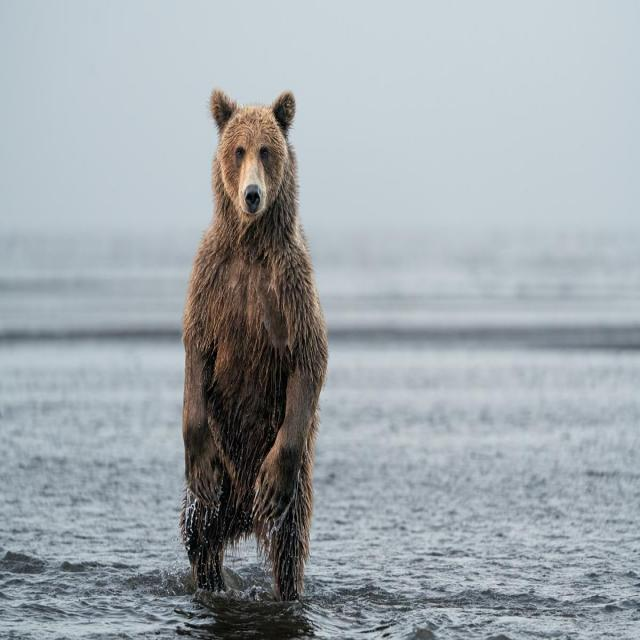Bear: (180, 89, 330, 606)
